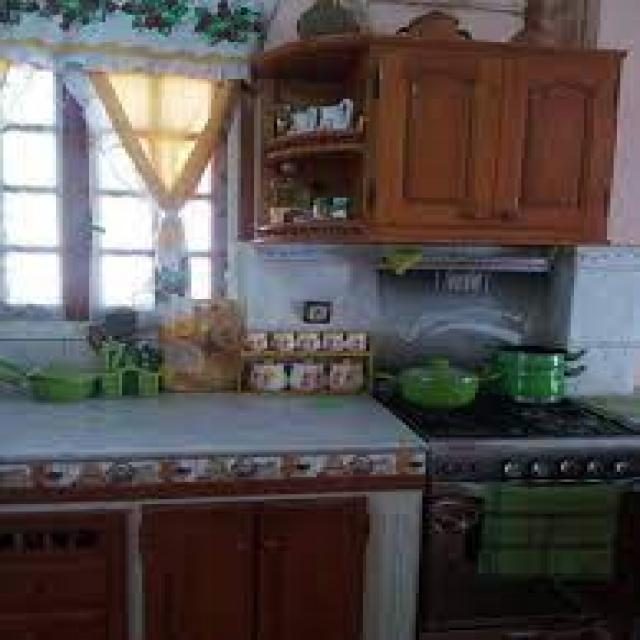oven: (426, 381, 640, 639)
wardrobe: (344, 42, 622, 249), (146, 499, 356, 640)
window: (5, 51, 240, 325)
